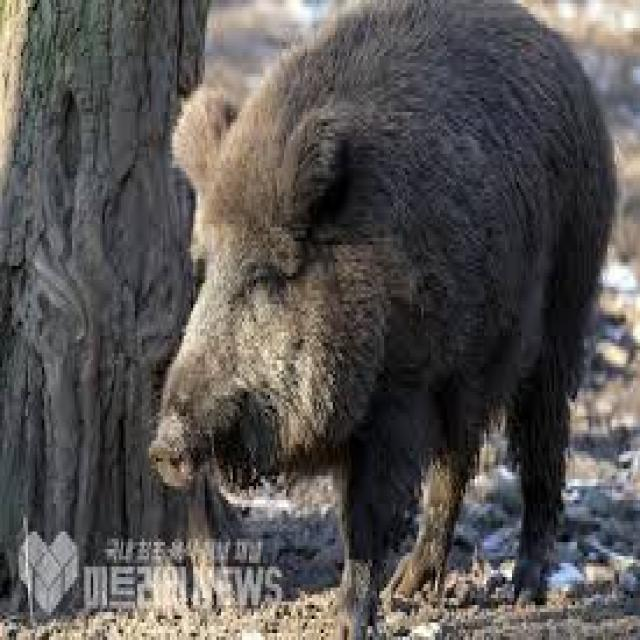boar: (113, 2, 615, 630)
